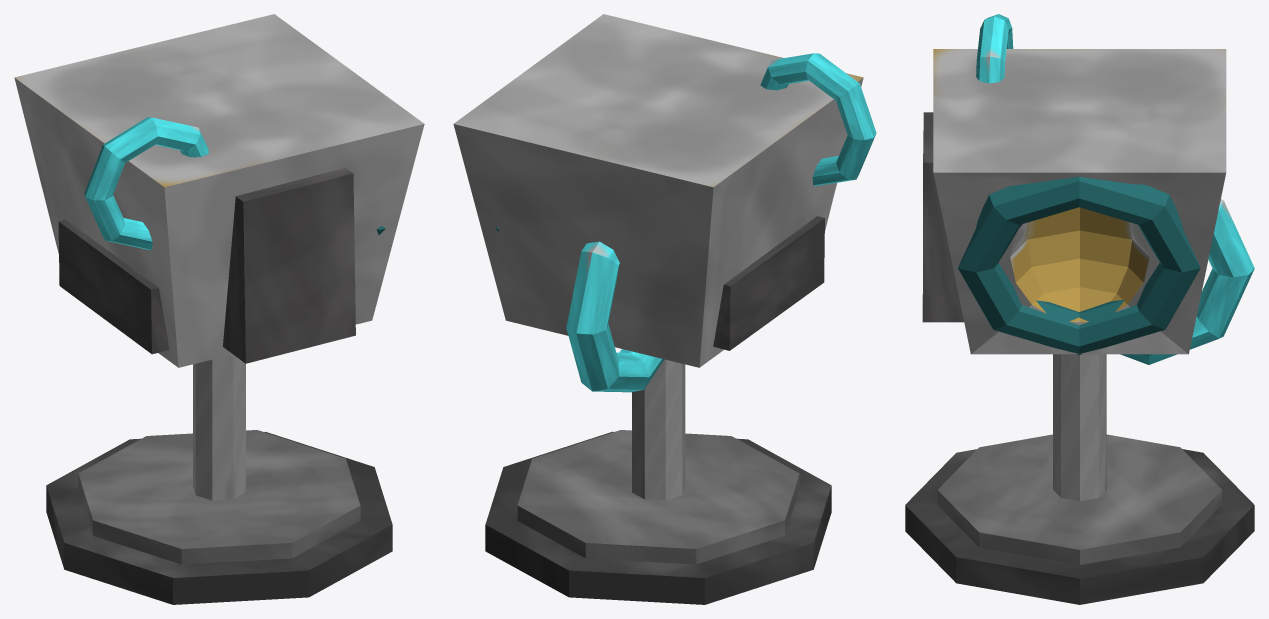
The model's file is target.fbx.
The picture shows the model from 3 angles, left to right: view 1: azimuth 30°, elevation 25°; view 2: azimuth 150°, elevation 25°; view 3: azimuth 270°, elevation 25°; orthographic projection. The views are drawn at different scales.
Visible parts, largest first — view 1: Torus; view 2: Torus; view 3: Torus.
Boxes of the visible parts, x1,y1,x2,y2 form: Torus: (14, 14, 424, 604); Torus: (453, 14, 876, 604); Torus: (905, 14, 1254, 604).
Size of the model in its own units: 213 by 292 by 200.
